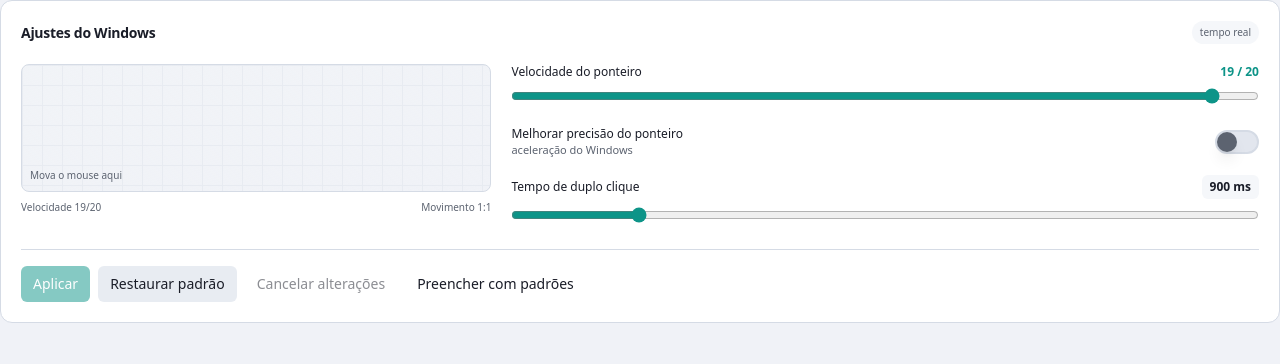
Test: MouseSettingsPanel — controles › restaura os padrões do Windows e aplica na hora
Expected: the slider labelled "Velocidade do ponteiro" is shown, [511,88,1259,104]
Click the button "Restaurar padrão".
click(167, 284)  # box [98,266,237,302]
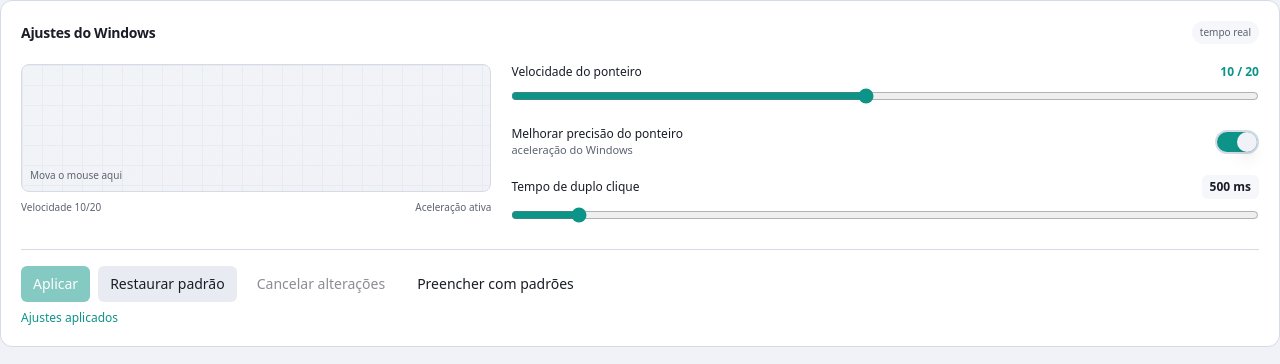
Expected: the text "Ajustes aplicados" is shown, [21,308,118,326]
